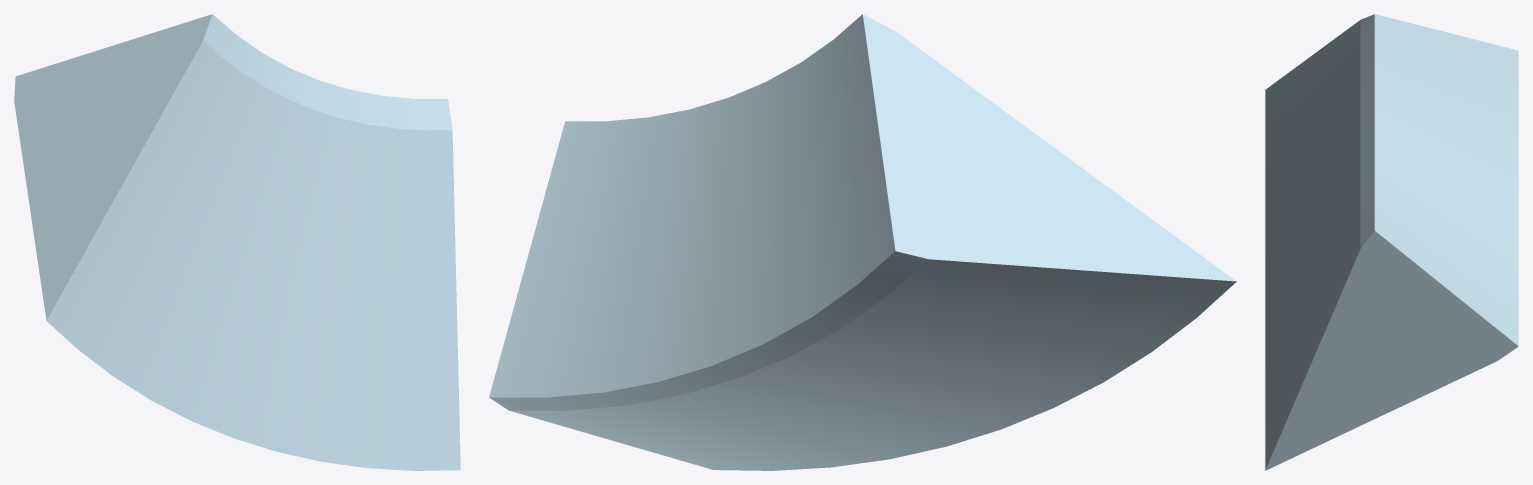
The model's file is Sub_5_Cell_2_2.gltf.
The picture shows the model from 3 angles, left to right: view 1: azimuth 30°, elevation 25°; view 2: azimuth 150°, elevation 25°; view 3: azimuth 270°, elevation 25°; orthographic projection. The views are drawn at different scales.
Parts seen in each view (by area): view 1: Sub_5_Cell_2_2; view 2: Sub_5_Cell_2_2; view 3: Sub_5_Cell_2_2.
Part boxes in pixels (<box>): Sub_5_Cell_2_2: <box>14,14,460,470</box>; Sub_5_Cell_2_2: <box>489,14,1236,470</box>; Sub_5_Cell_2_2: <box>1265,14,1518,470</box>.
Size of the model in its own units: 0.0873 by 0.0811 by 0.0488.
